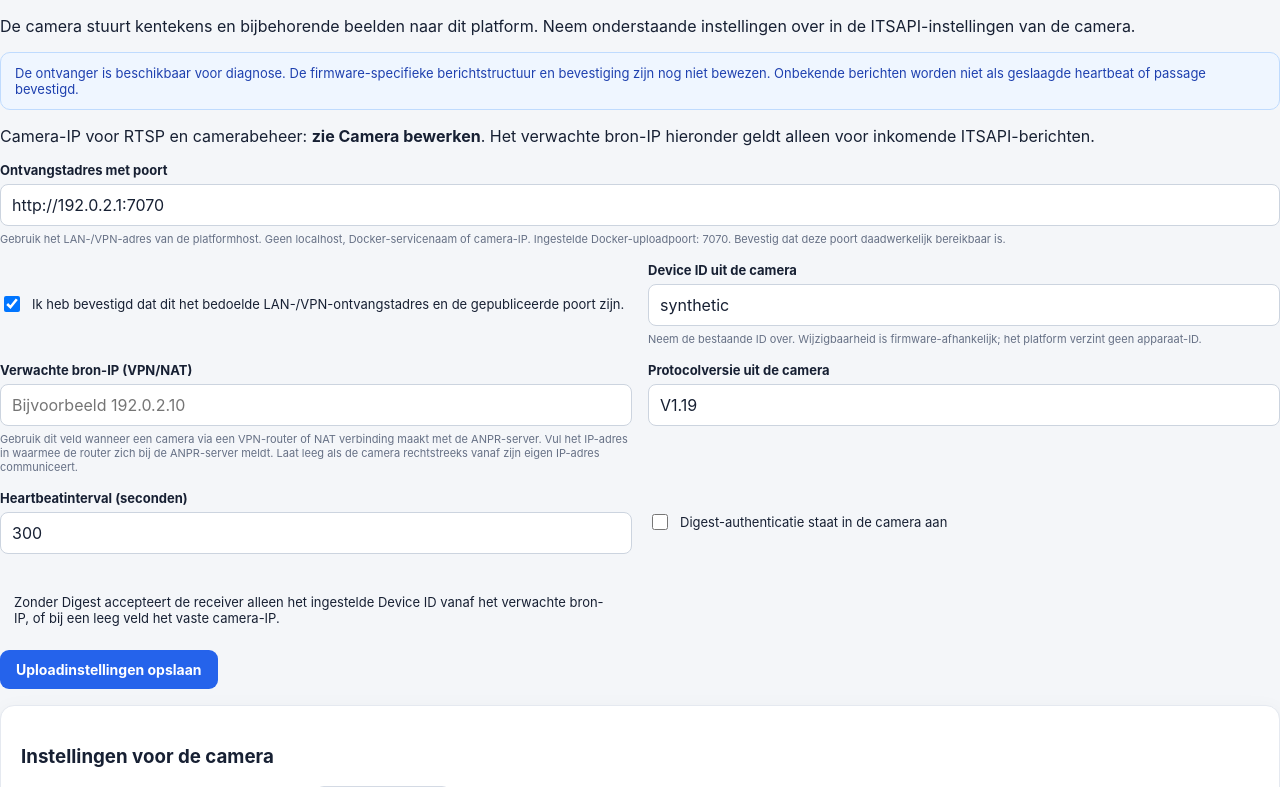
it: toont databasefout zonder succes te melden
The width and height of the screenshot is (1280, 787).
Expected: the field labelled "Verwachte bron-IP (VPN/NAT)" is shown, [0, 384, 632, 426]
Step 1. Click the button "Uploadinstellingen opslaan" → (109, 670), box [0, 650, 218, 689]
(page scrolled)
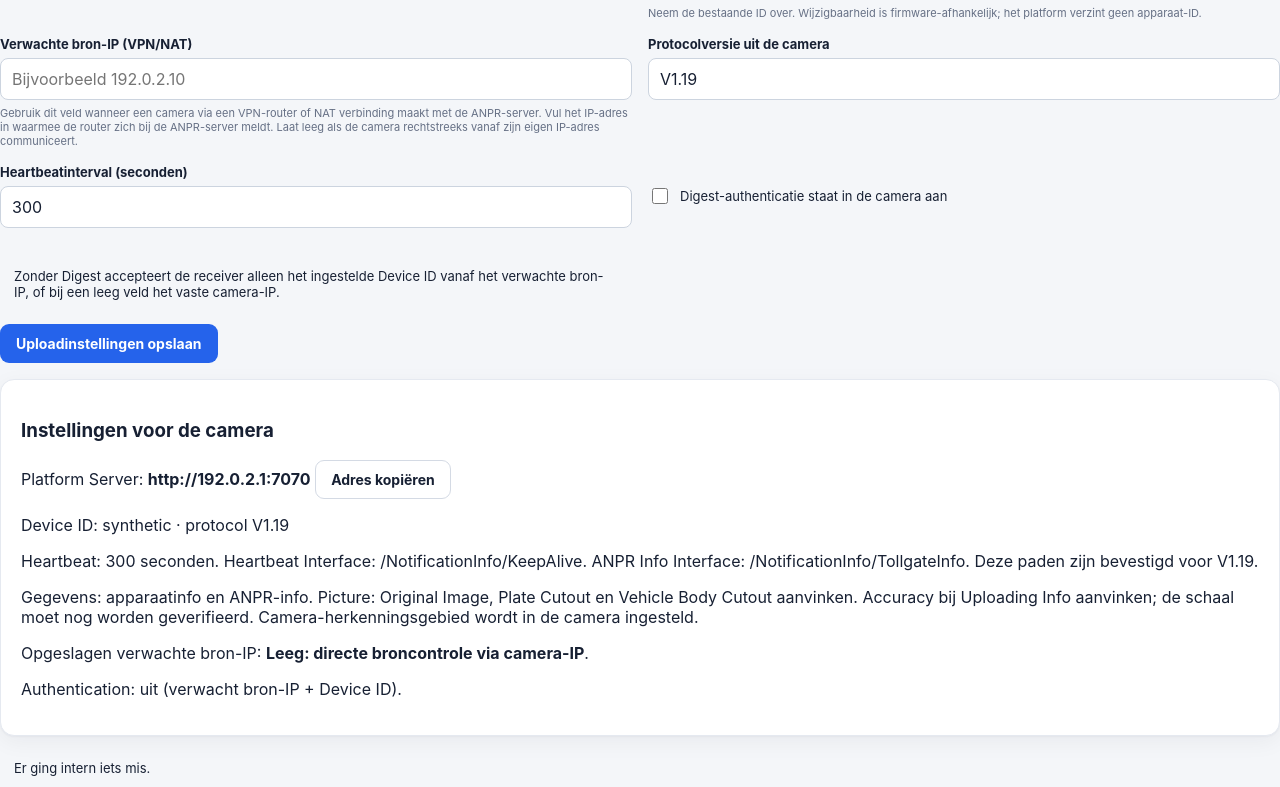
Expected: the text "Er ging intern iets mis." is shown, [14, 760, 150, 776]
